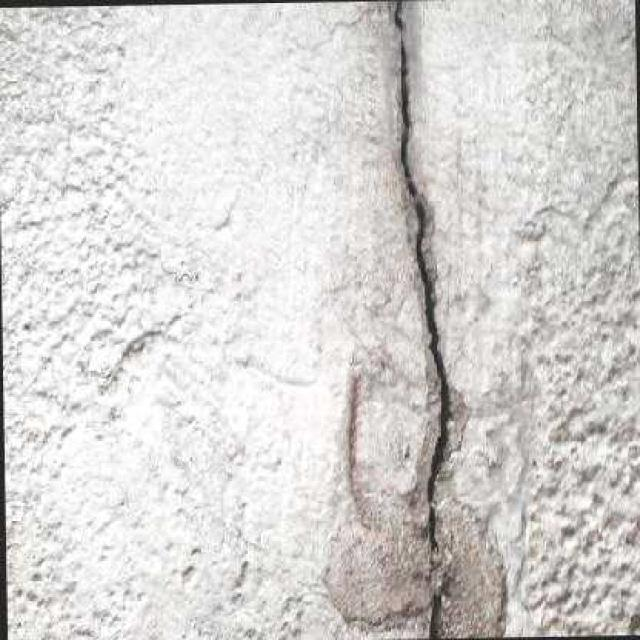D00: (392, 0, 449, 638)
